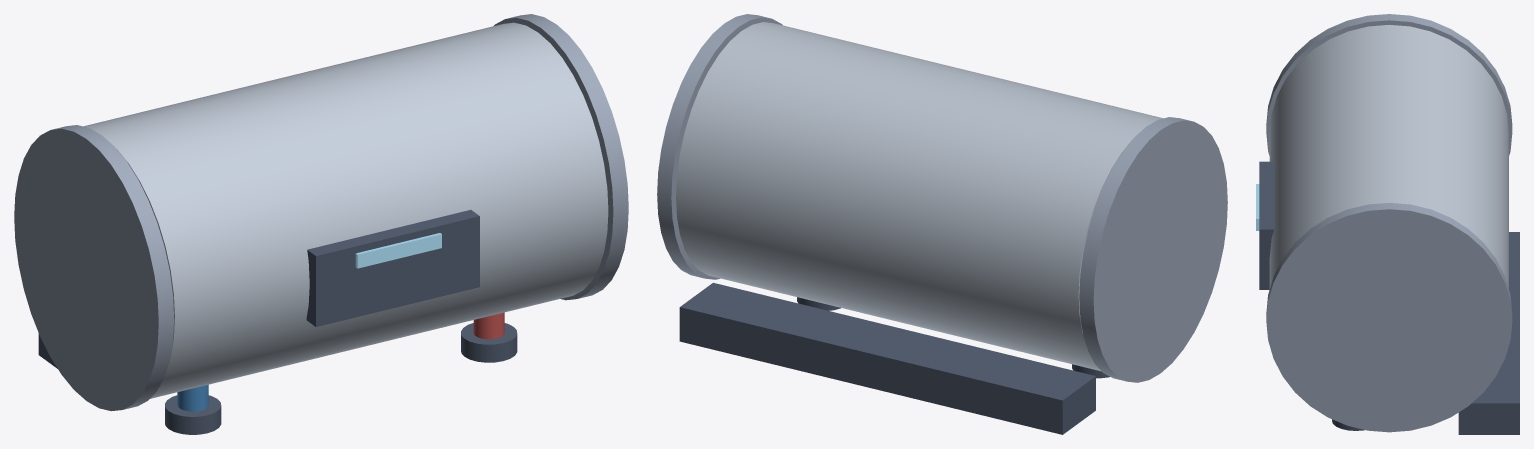
Rendered from storagewaterheater-lite.glb.
3 views of the same model, side by side, from view 1: azimuth 30°, elevation 25°; view 2: azimuth 150°, elevation 25°; view 3: azimuth 270°, elevation 25° (orthographic). The views are drawn at different scales.
Parts seen in each view (by area): view 1: storagewaterheater; view 2: storagewaterheater; view 3: storagewaterheater.
Boxes of the visible parts, <box> form: storagewaterheater: <box>14,14,628,434</box>; storagewaterheater: <box>657,14,1227,434</box>; storagewaterheater: <box>1256,14,1519,434</box>.
Size of the model in its own units: 0.7646 by 0.4533 by 0.4368.
